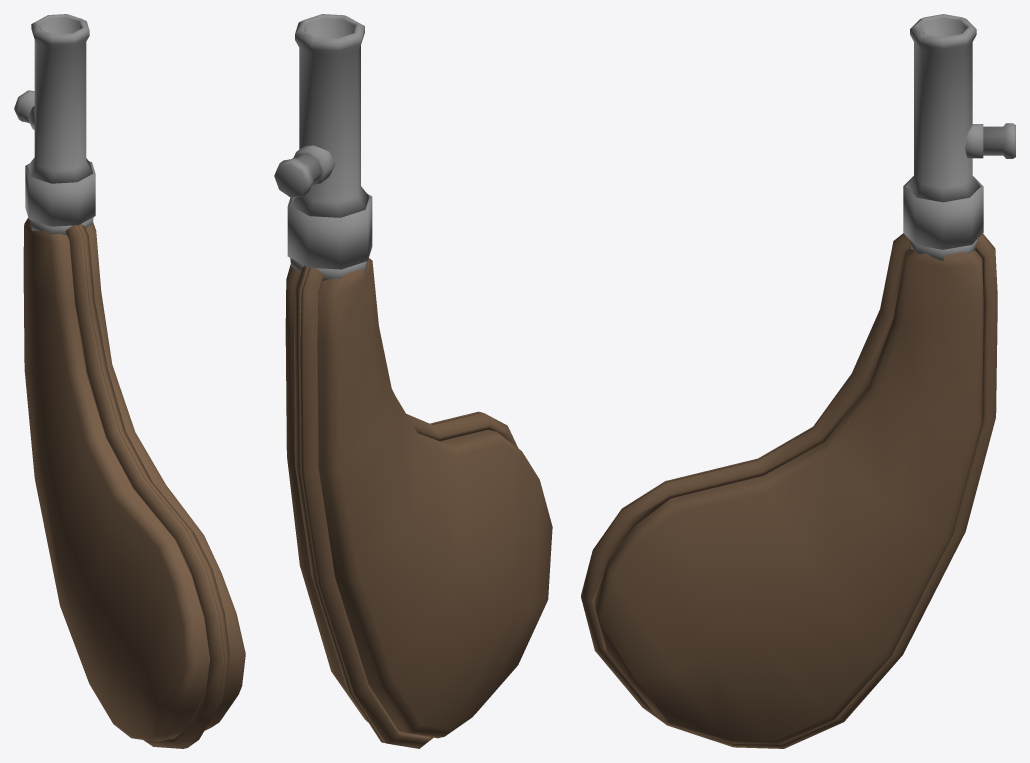
The model's file is Gunpowder Bag.fbx.
The picture shows the model from 3 angles, left to right: view 1: azimuth 30°, elevation 25°; view 2: azimuth 150°, elevation 25°; view 3: azimuth 270°, elevation 25°; orthographic projection. The views are drawn at different scales.
Parts seen in each view (by area): view 1: Pouch; view 2: Pouch; view 3: Pouch.
Boxes of the visible parts, x1=… form: Pouch: x1=14, y1=14, x2=245, y2=748; Pouch: x1=274, y1=14, x2=552, y2=748; Pouch: x1=581, y1=14, x2=1015, y2=748.
Size of the model in its own units: 239 by 78.36 by 438.
